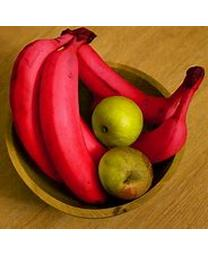banana: (4, 28, 205, 215)
